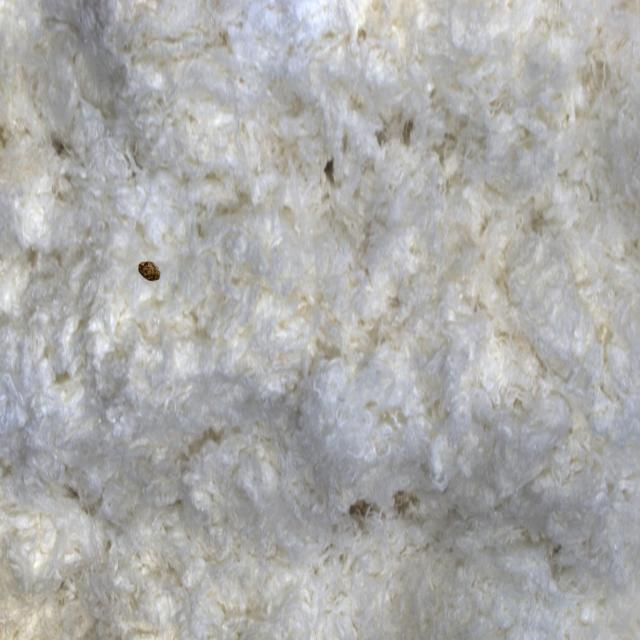dust: (131, 241, 174, 307)
